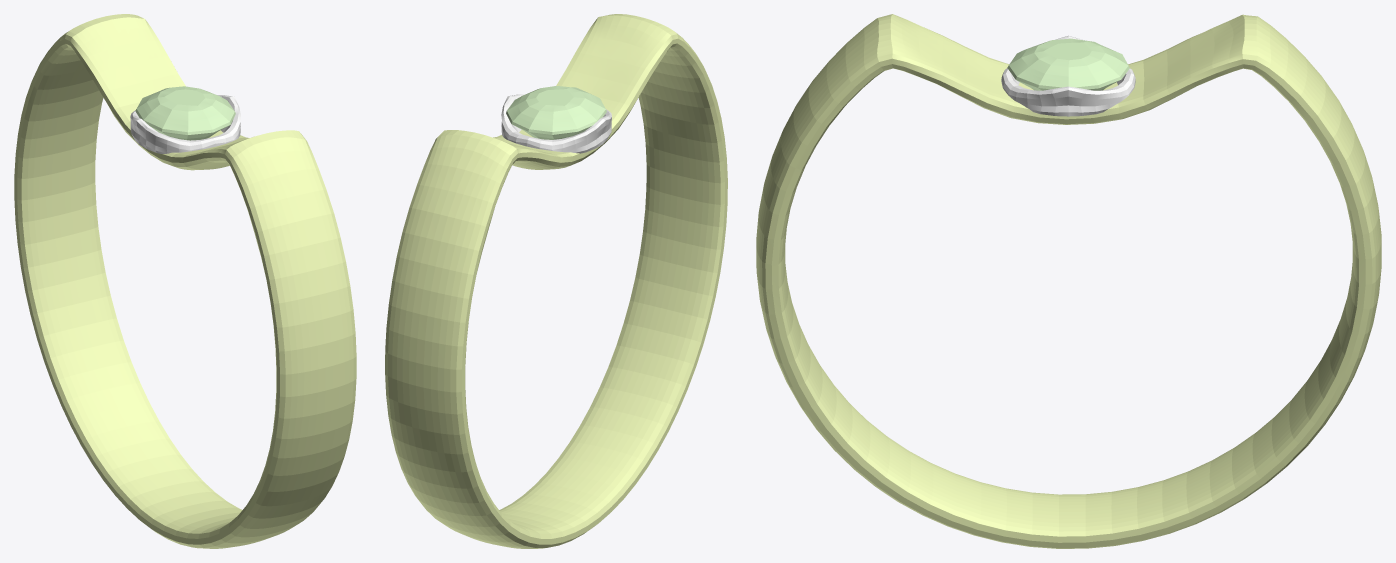
Rendered from convert.glb.
3 renders of one model, left to right at view 1: azimuth 30°, elevation 25°; view 2: azimuth 150°, elevation 25°; view 3: azimuth 270°, elevation 25°, orthographic. The views are drawn at different scales.
Visible parts, largest first — view 1: R8, R6, R7; view 2: R8, R6, R7; view 3: R8, R6, R7.
Part boxes in pixels (x1,y1,x2,y2): R8: (14, 14, 356, 548); R6: (135, 86, 235, 140); R7: (130, 95, 240, 153); R8: (385, 14, 727, 548); R6: (506, 86, 606, 139); R7: (501, 94, 611, 153); R8: (756, 14, 1381, 548); R6: (1007, 38, 1129, 90); R7: (1001, 35, 1135, 116).
Size of the model in its own units: 0.5515 by 2.41 by 2.68.
